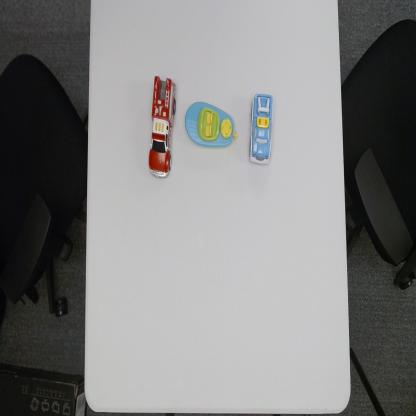Boat: (184, 98, 239, 153)
Car: (248, 90, 275, 167)
Firetruck: (148, 75, 177, 180)
